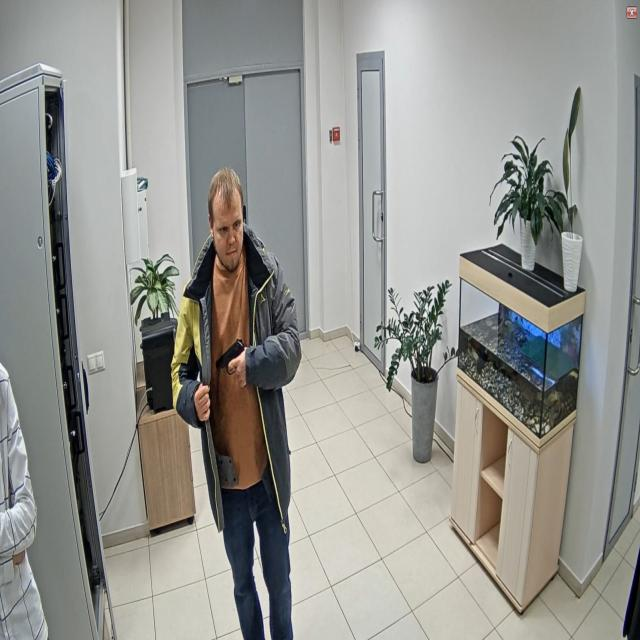-Gun: (215, 339, 244, 375)
